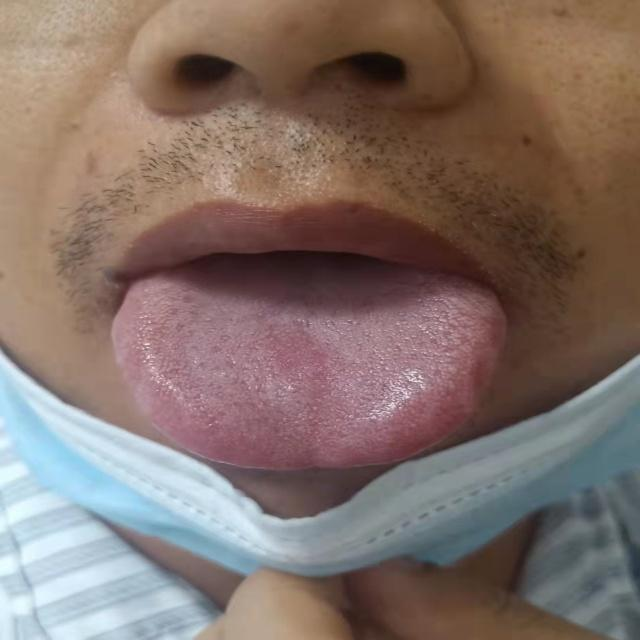baitaishe: (116, 254, 508, 471)
zishe: (116, 254, 508, 471)
